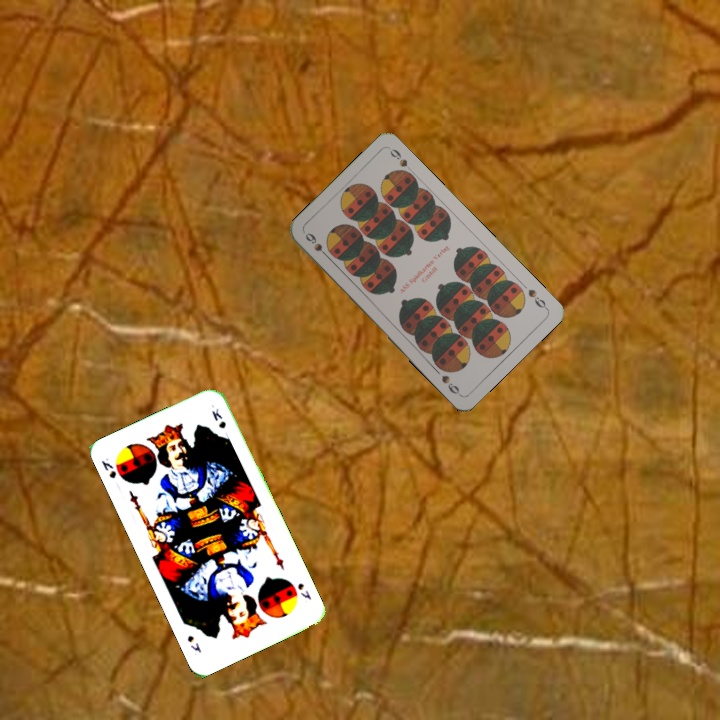S9: (301, 229, 333, 262), (524, 285, 550, 312)
SK: (97, 454, 119, 481), (293, 579, 314, 602)
